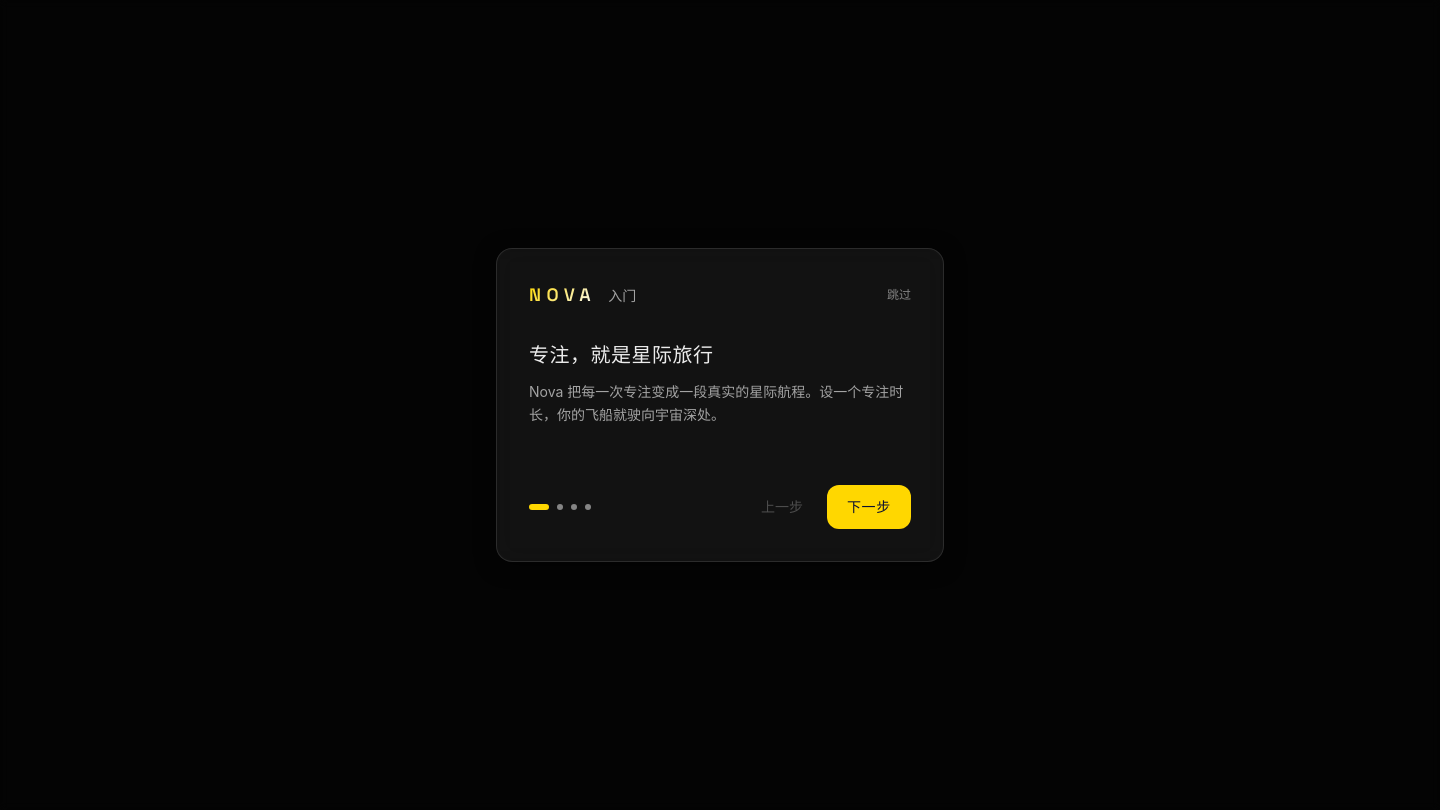
Test: OnboardingDialog 首次引导 › 点下一步逐页前进，最后一页显示开始航行
This screenshot has width=1440, height=810.
Click the button with test id "onboarding-next" at (869, 507), box [827,485,911,529]
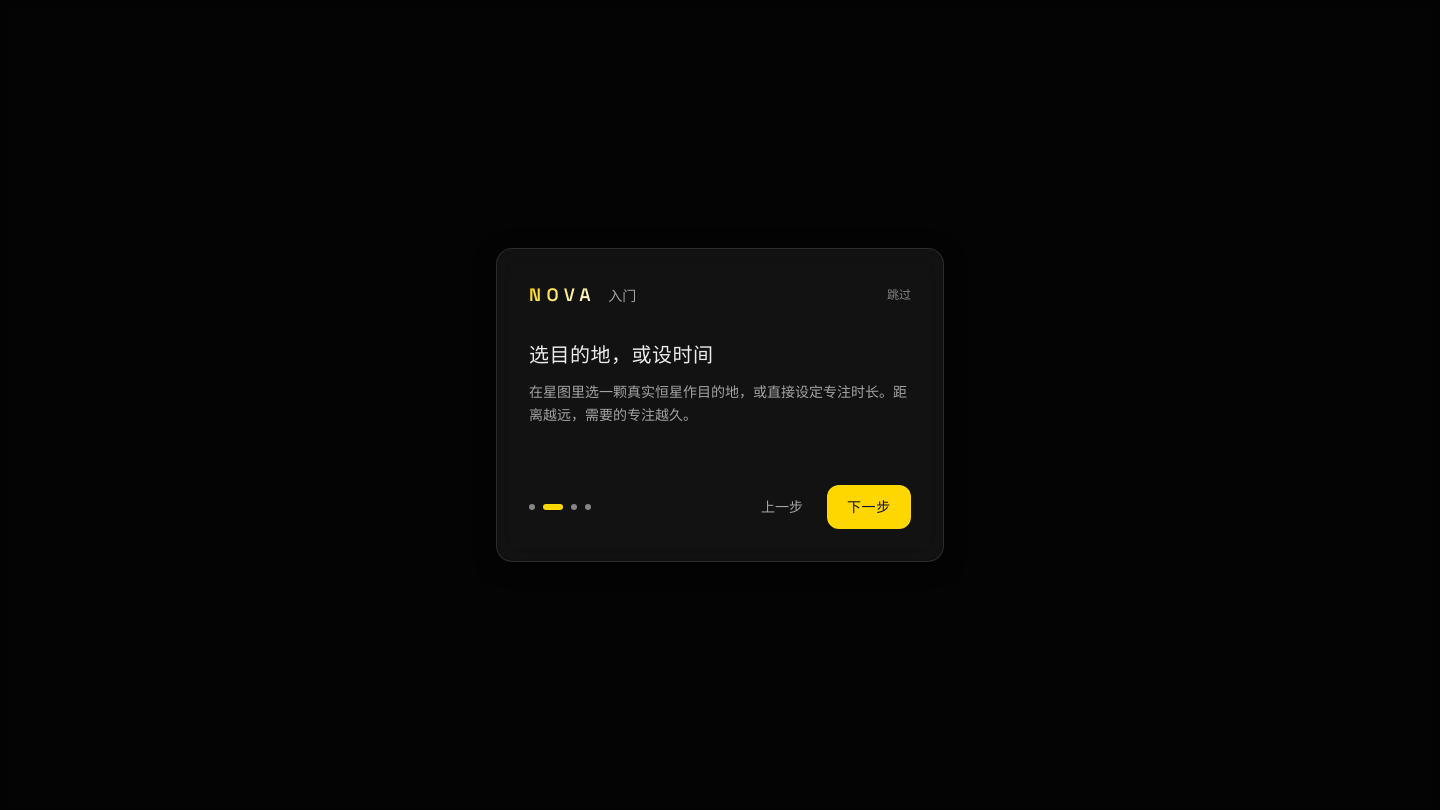
Now the heading "选目的地，或设时间" is shown, box [529,342,714,368]
Click the button with test id "onboarding-next" at (869, 507), box [827,485,911,529]
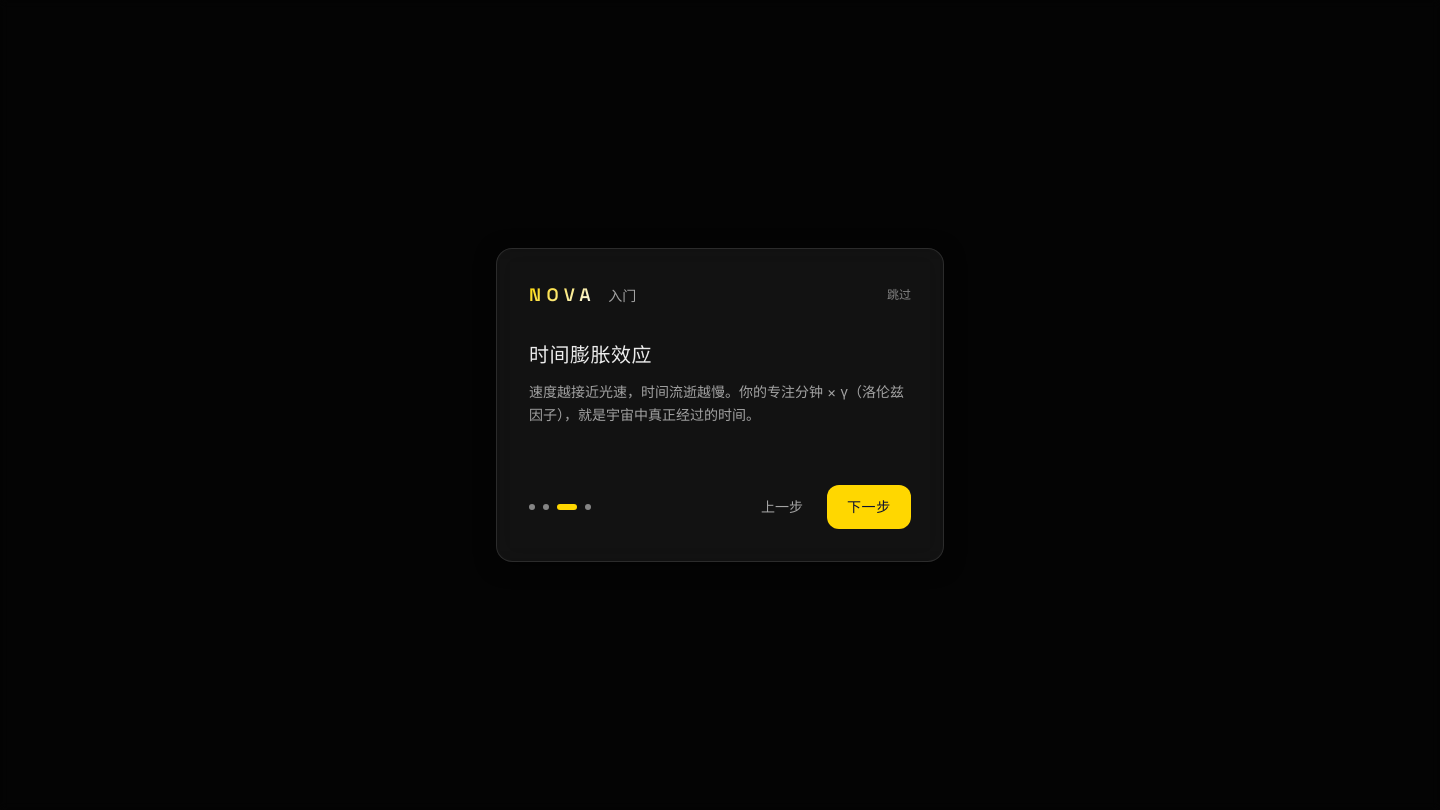
Now the heading "时间膨胀效应" is shown, box [529,342,652,368]
Click the button with test id "onboarding-next" at (869, 507), box [827,485,911,529]
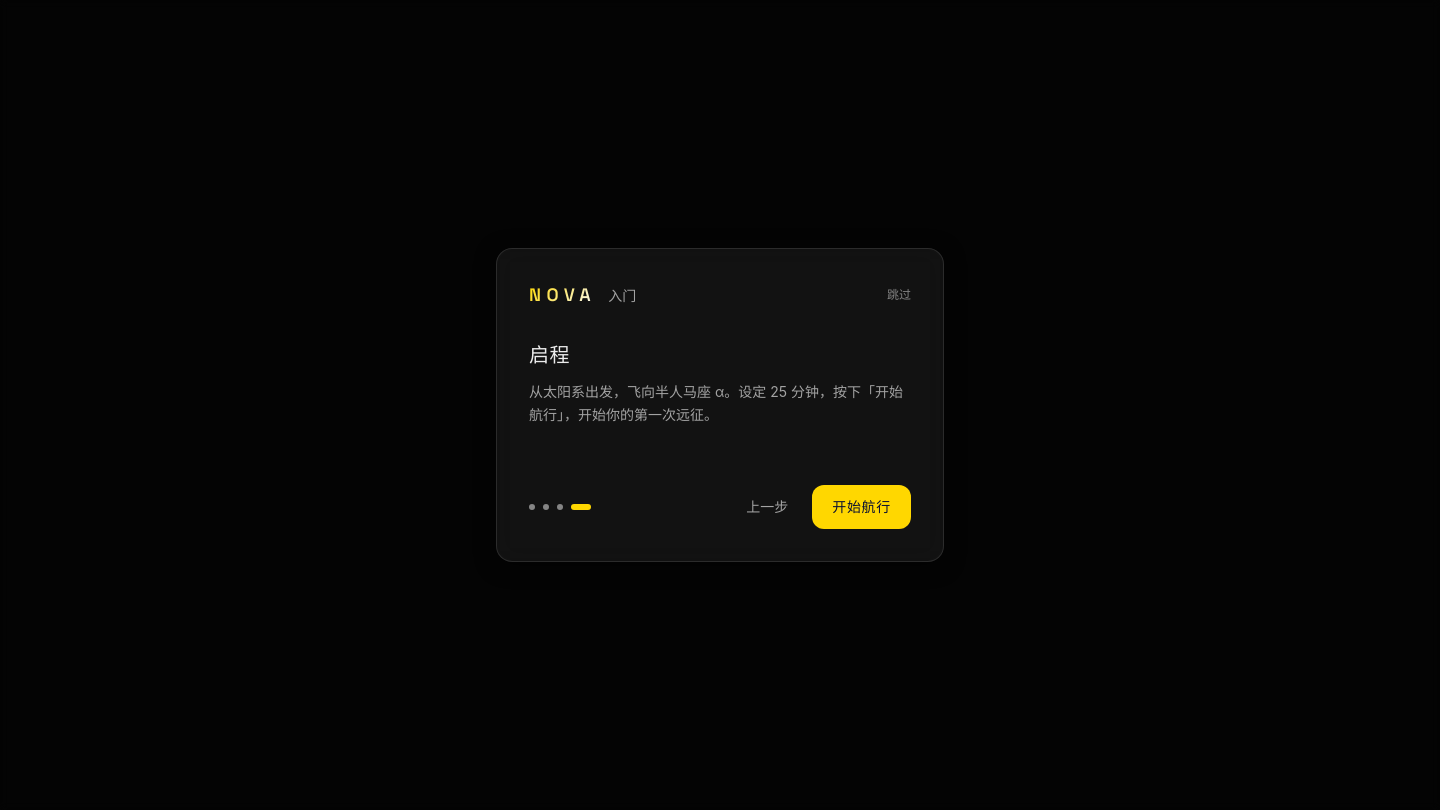
Now the heading "启程" is shown, box [529,342,570,368]
Now the button with test id "onboarding-start" is shown, box [812,485,911,529]
